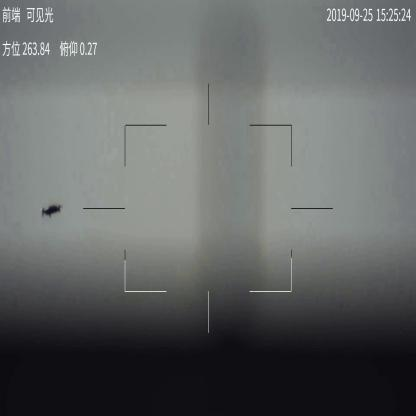uav: (40, 203, 62, 220)
